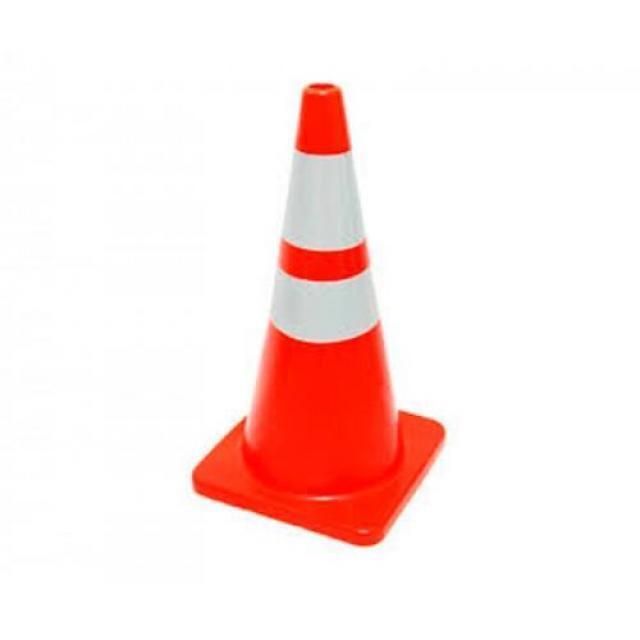traffic cone: (190, 82, 446, 547)
